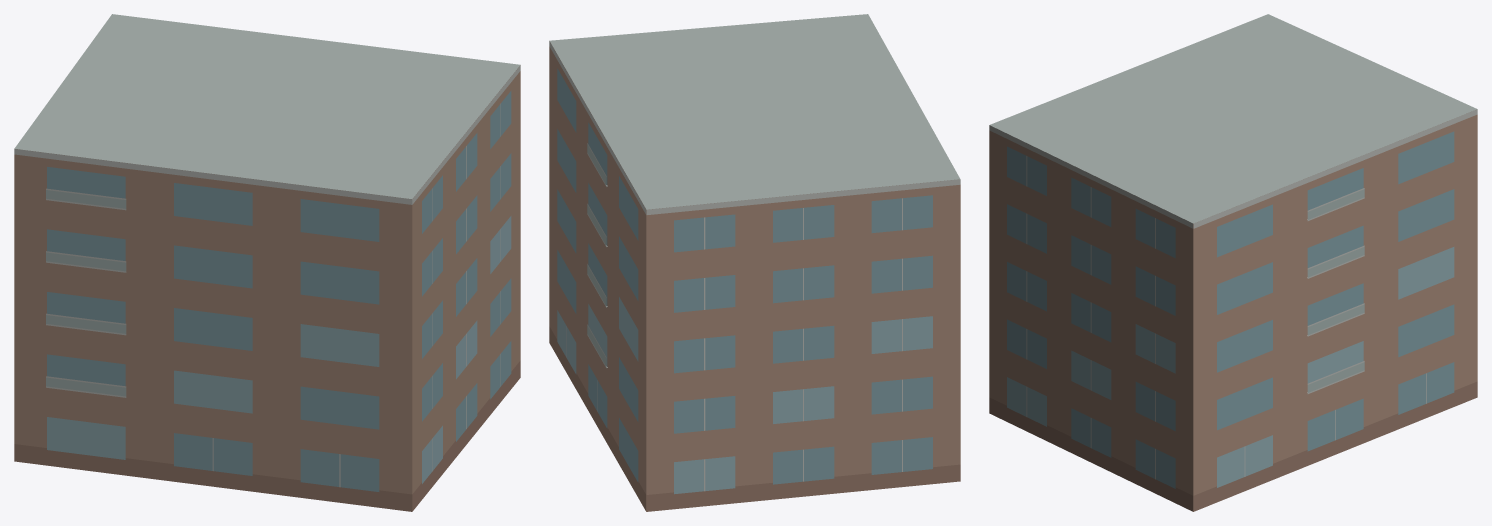
The model's file is survey-upis-32815271.glb.
3 renders of one model, left to right at view 1: azimuth 30°, elevation 25°; view 2: azimuth 150°, elevation 25°; view 3: azimuth 270°, elevation 25°, orthographic. The views are drawn at different scales.
Visible parts, largest first — view 1: survey-upis-32815271.tmp; view 2: survey-upis-32815271.tmp; view 3: survey-upis-32815271.tmp.
Boxes of the visible parts, <box> form: survey-upis-32815271.tmp: <box>14,14,520,511</box>; survey-upis-32815271.tmp: <box>549,14,960,511</box>; survey-upis-32815271.tmp: <box>989,14,1477,511</box>.
Size of the model in its own units: 20.66 by 13.25 by 20.35.
